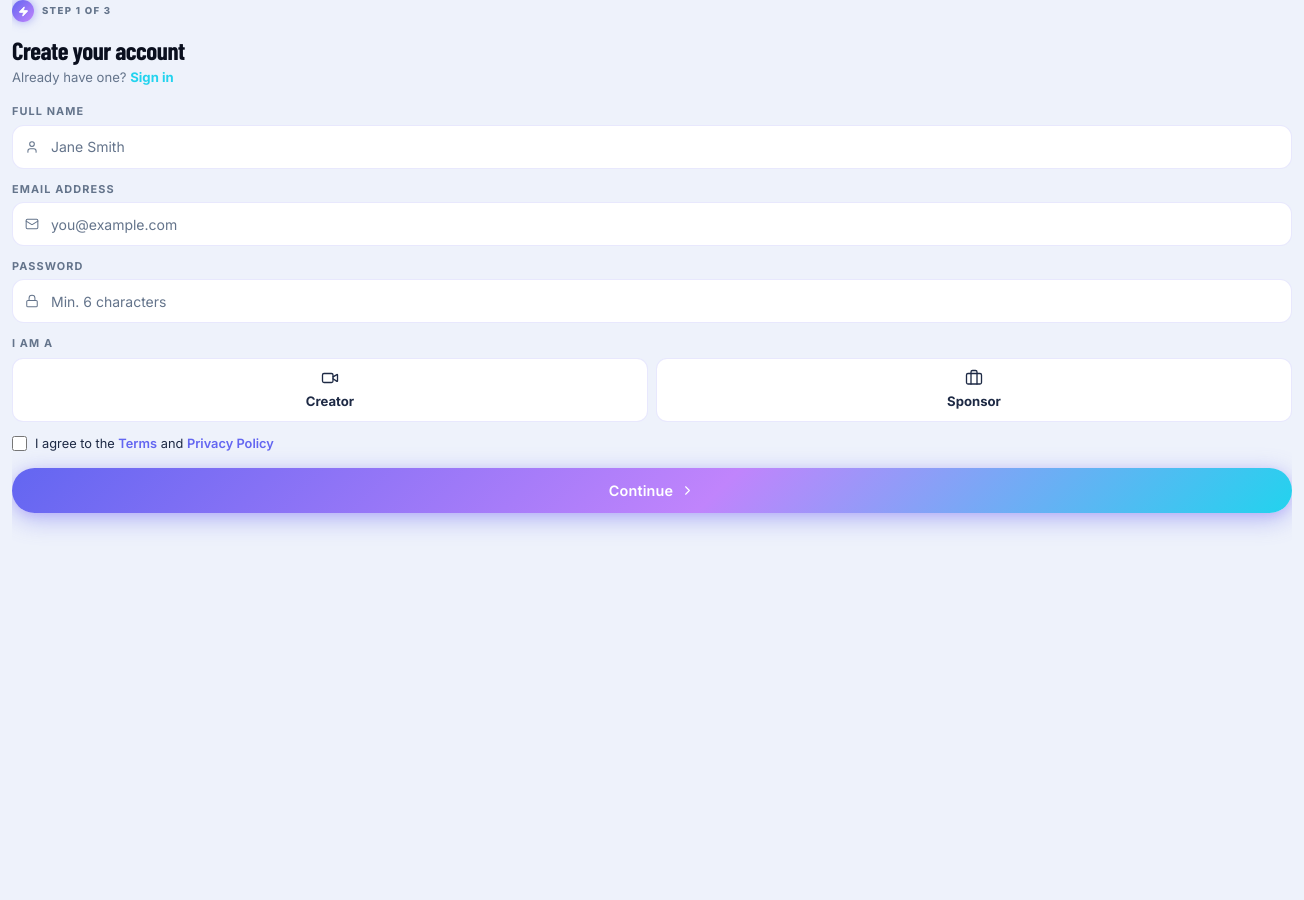
Scenario: SignUpStep1 › shows error for password shorter than 6 chars
Type "abc" into the password field with placeholder "Min. 6 characters".
click(652, 301); type("abc")  # box [12,279,1292,323]
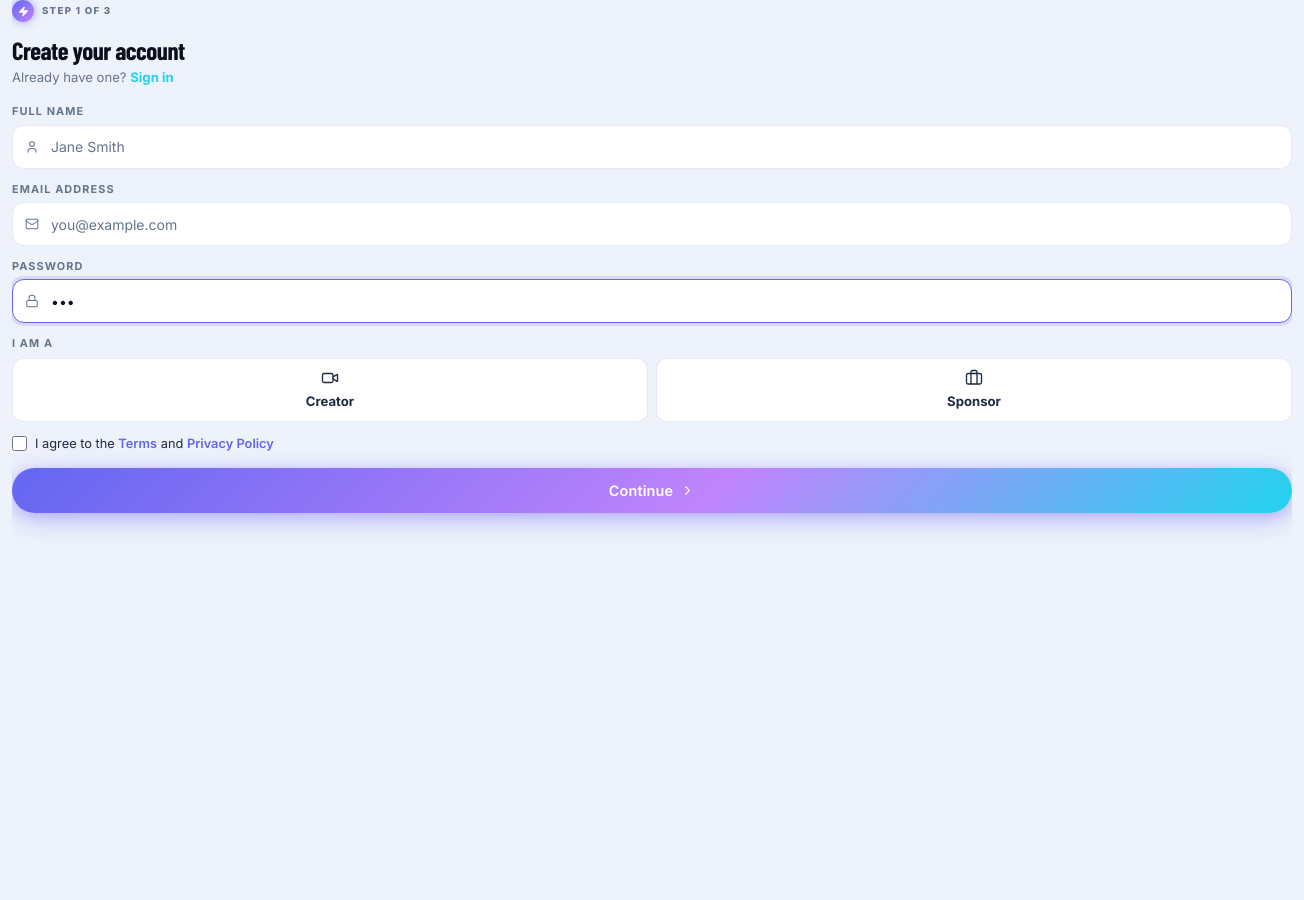
Click the button "Continue".
click(652, 490)  # box [12,468,1292,513]
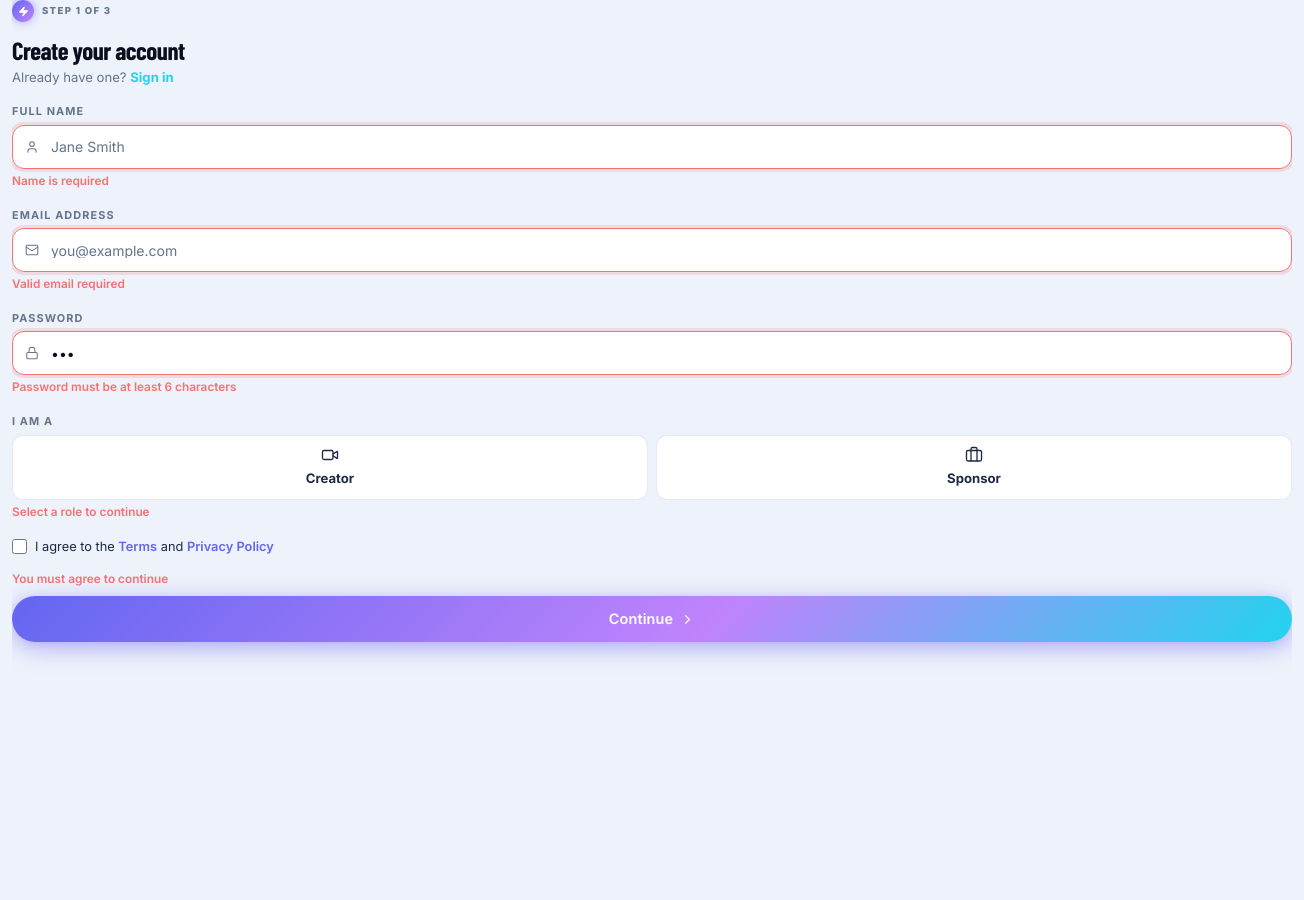
Expected: the text "Password must be at least 6 characters" is shown, [12,380,237,394]
